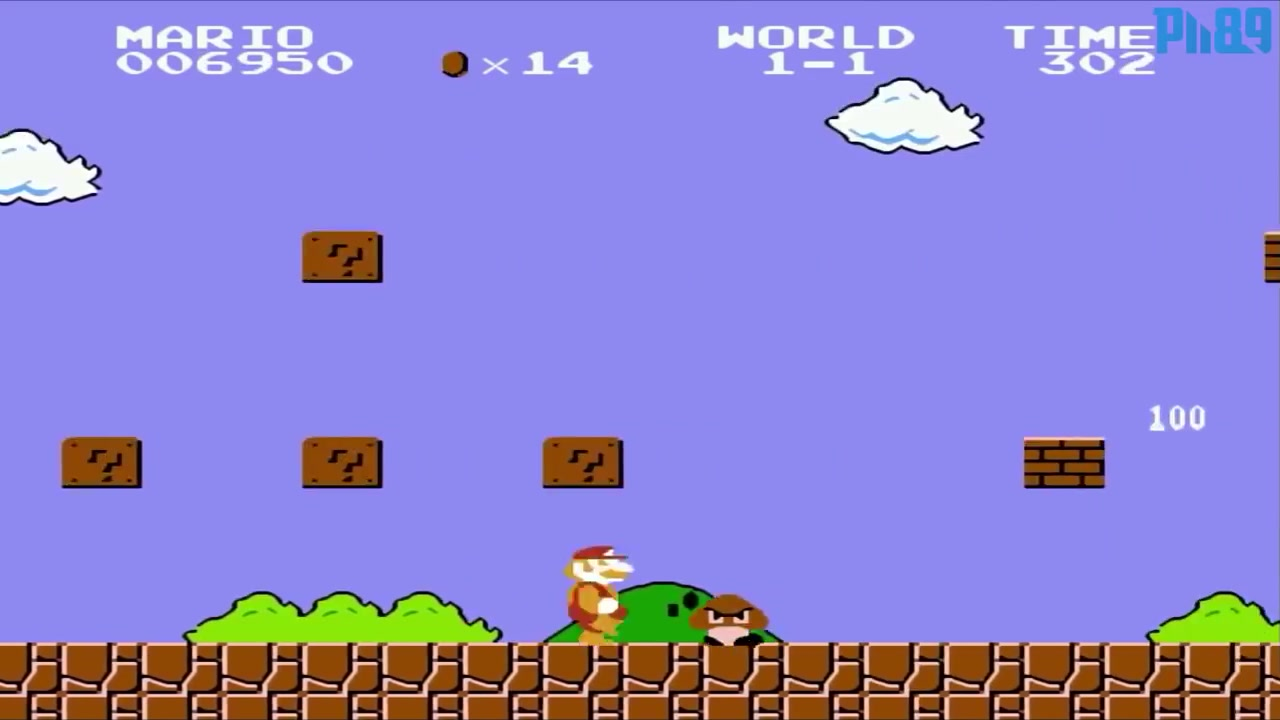mario: (540, 530, 634, 644)
